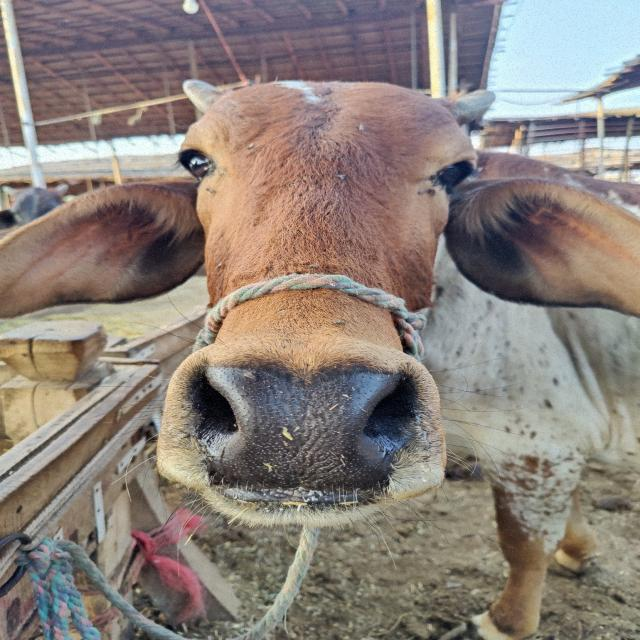muzzles: (180, 353, 427, 501)
